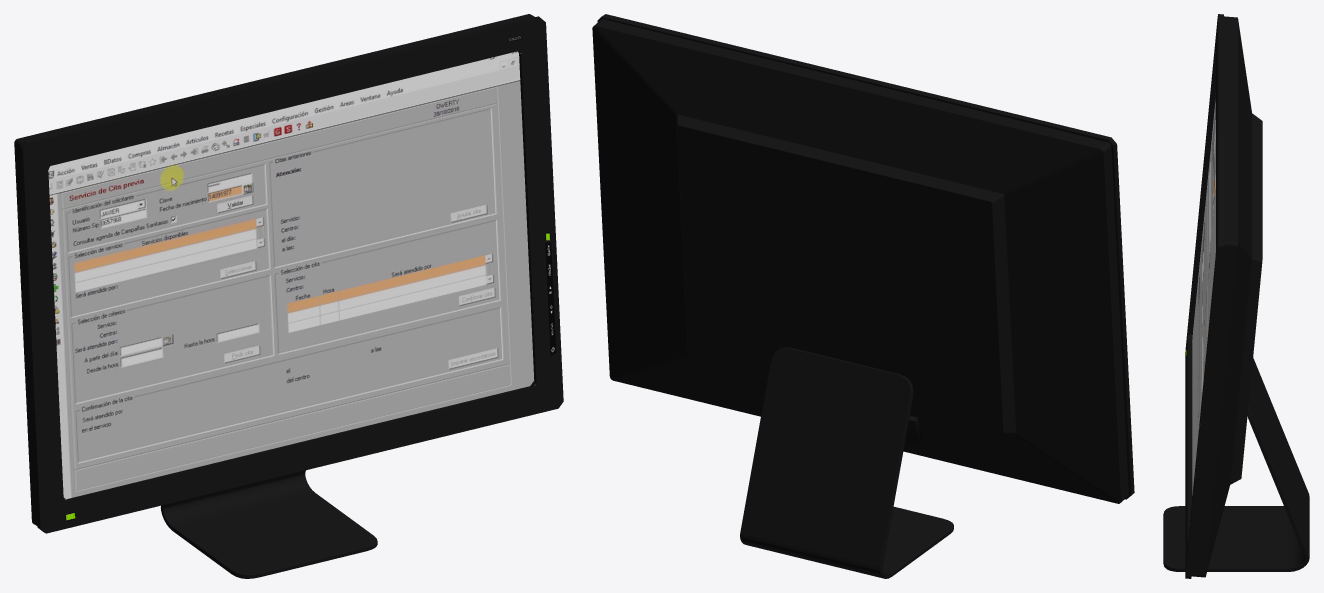
Rendered from Monitor.FBX.
3 renders of one model, left to right at view 1: azimuth 30°, elevation 25°; view 2: azimuth 150°, elevation 25°; view 3: azimuth 270°, elevation 25°, orthographic. The views are drawn at different scales.
Visible parts, largest first — view 1: Monitor; view 2: Monitor; view 3: Monitor.
Boxes of the visible parts, x1,y1,x2,y2 form: Monitor: [14, 14, 563, 578]; Monitor: [592, 14, 1134, 578]; Monitor: [1163, 14, 1309, 578].
Size of the model in its own units: 55.63 by 46.91 by 14.96.
2 materials, 2 textured.
